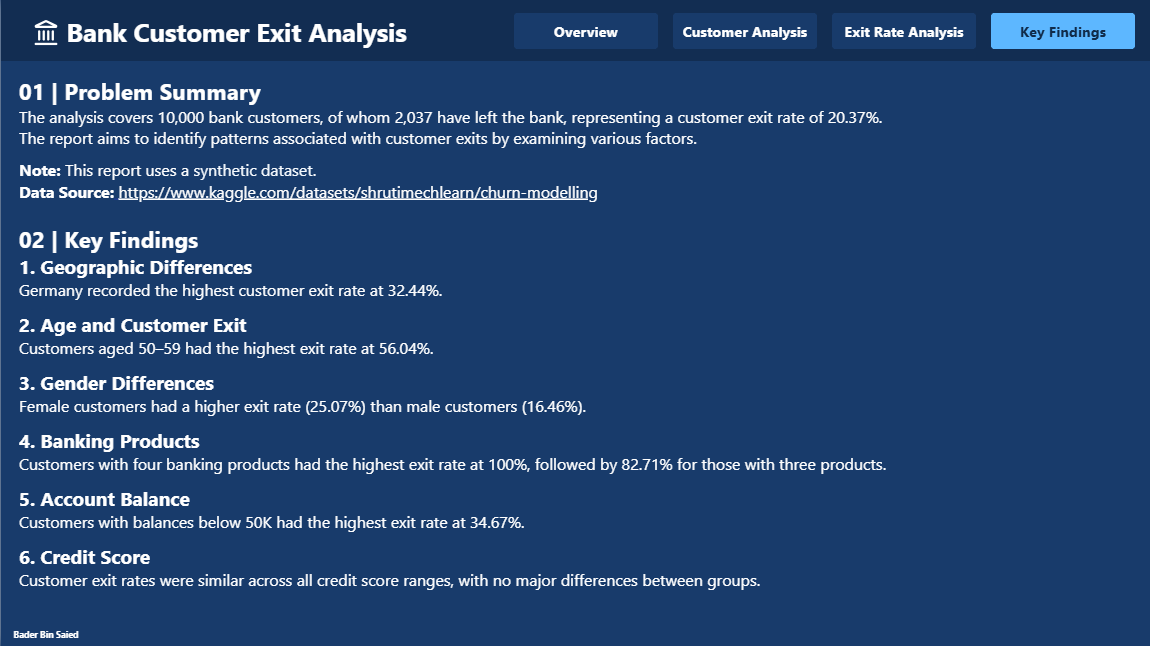

This screenshot's page, from the dashboard's own definition file:
{"tool":"powerbi","page":{"name":"Key Findings","canvas":[1920,1080],"ordinal":3},"visuals":[{"type":"textbox","box":[30,130,1520,900],"z":7000},{"type":"group","id":"g1","title":"Group 1","box":[0,0,1920,105],"z":8000},{"type":"textbox","box":[5,1050,140,30],"z":8001},{"type":"shape","box":[0,0,1920,105],"z":12000,"group":"g1"},{"type":"actionButton","box":[855,25,240,60],"z":13000,"group":"g1"},{"type":"actionButton","box":[1120,25,240,60],"z":14000,"group":"g1"},{"type":"actionButton","box":[1385,25,240,60],"z":15000,"group":"g1"},{"type":"textbox","box":[103,28,580,60],"z":16000,"group":"g1"},{"type":"image","box":[25,35,100,45],"z":19000,"group":"g1"},{"type":"actionButton","box":[1650,25,240,60],"z":20000,"group":"g1"}]}

Visuals, with their boxes in screenshot pixels (x1, y1, x2, y2), scaled from the page's 1920x1080 canvas onto the 1150x646 screenshot:
textbox: bbox(18, 78, 928, 616)
"Group 1" group: bbox(0, 0, 1149, 63)
textbox: bbox(3, 628, 87, 645)
shape: bbox(0, 0, 1149, 63)
actionButton: bbox(512, 15, 656, 51)
actionButton: bbox(671, 15, 815, 51)
actionButton: bbox(830, 15, 973, 51)
textbox: bbox(62, 17, 409, 53)
image: bbox(15, 21, 75, 48)
actionButton: bbox(988, 15, 1132, 51)
